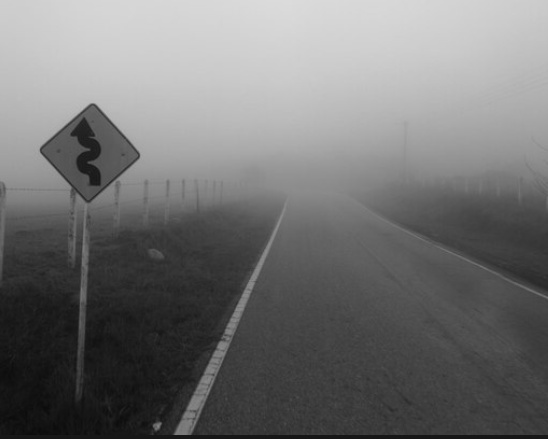Curve Road: (33, 95, 150, 203)
